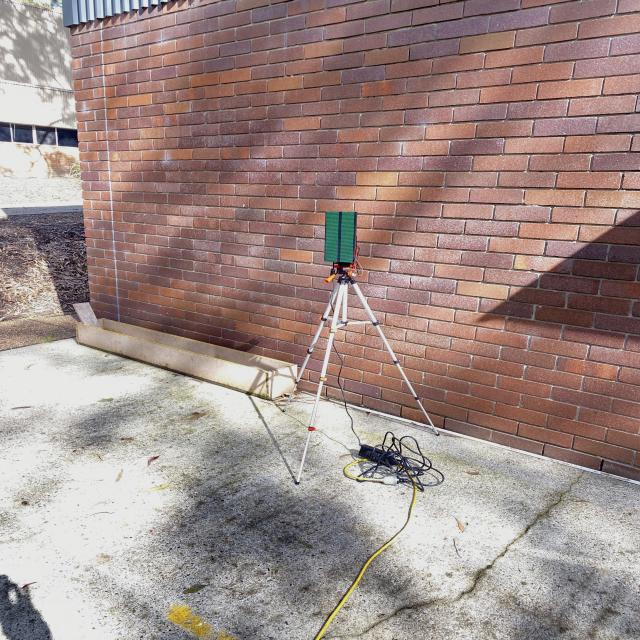matrix: (317, 205, 364, 270)
